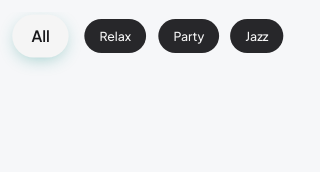
Scenario: JellyRadio under StrictMode › selects chips via click and arrow keys without losing reactivity
This screenshot has width=320, height=172.
Click the radio button labelled "Party". click: (188, 36)
box: 158,19 -> 219,53
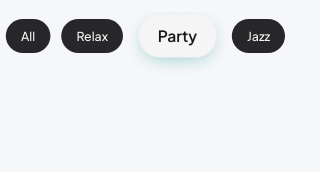
Expected: the radio button labelled "Party" is checked, 139,14 -> 217,58
Press Arrowright
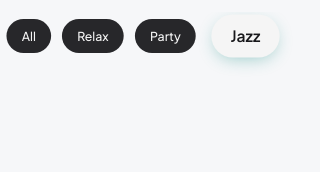
Expected: the radio button labelled "Jazz" is checked, 212,14 -> 280,58
